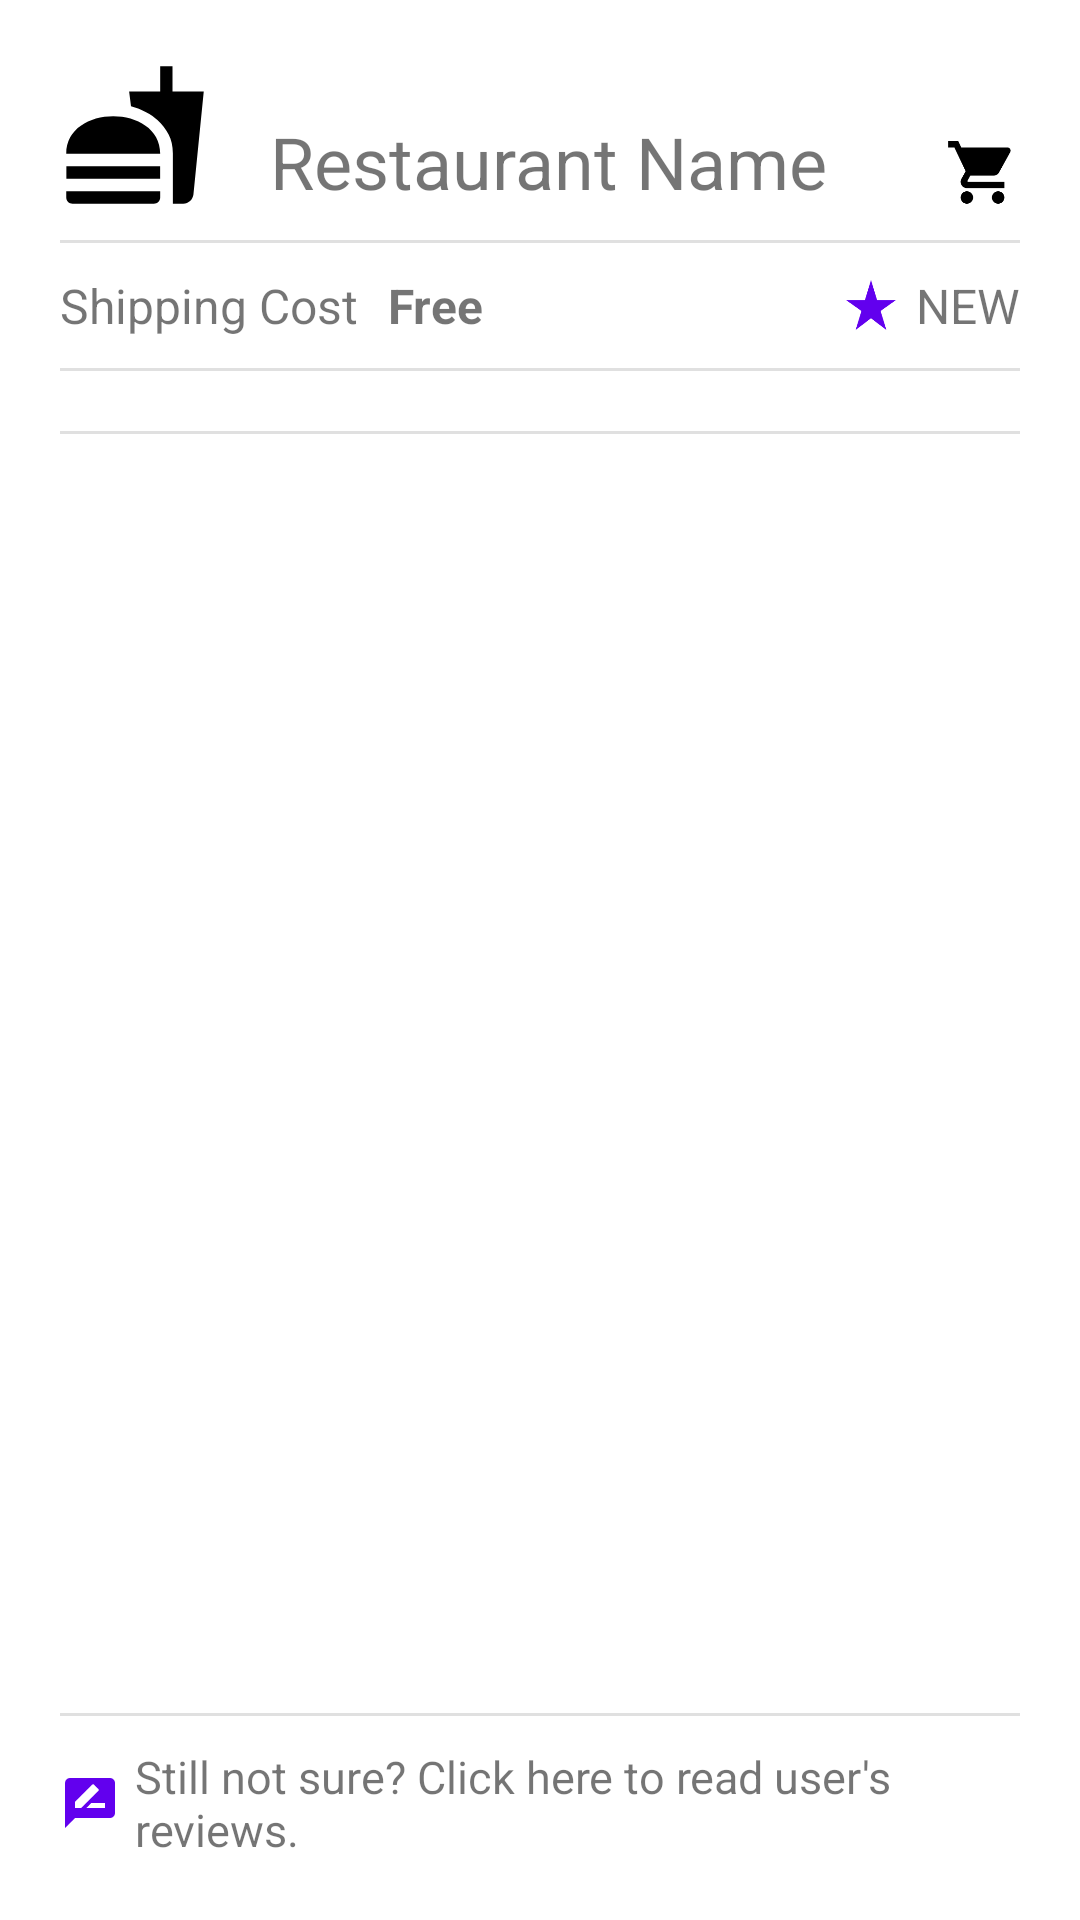

Where to tap for icons on this 1080×1920 app screen, as [x,y]:
shopping cart: [979,172]
star: [871,305]
